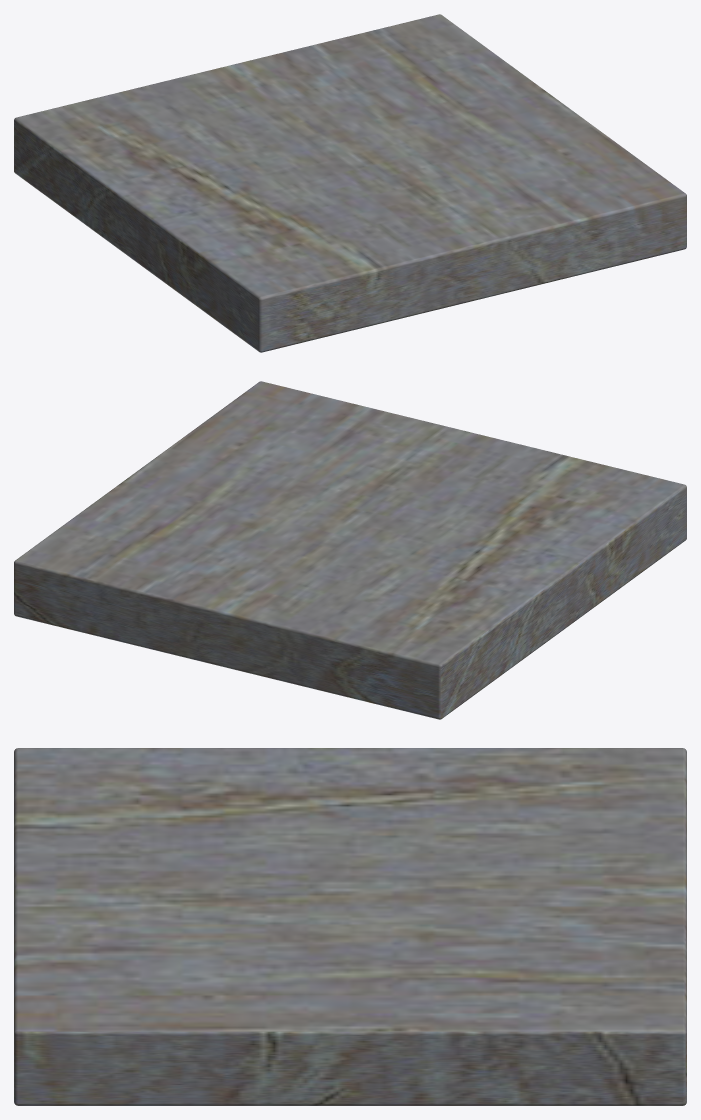
The model's file is LY_LFLR.obj.
3 views of the same model, one above another, from view 1: azimuth 30°, elevation 25°; view 2: azimuth 150°, elevation 25°; view 3: azimuth 270°, elevation 25° (orthographic). The views are drawn at different scales.
Visible parts, largest first — view 1: BldgFloor; view 2: BldgFloor; view 3: BldgFloor.
Boxes of the visible parts, x1,y1,x2,y2 form: BldgFloor: (14,14,686,352); BldgFloor: (14,381,686,719); BldgFloor: (14,748,686,1105).
Size of the model in its own units: 200 by 25 by 200.
Materials: 1 (1 with a texture image).
